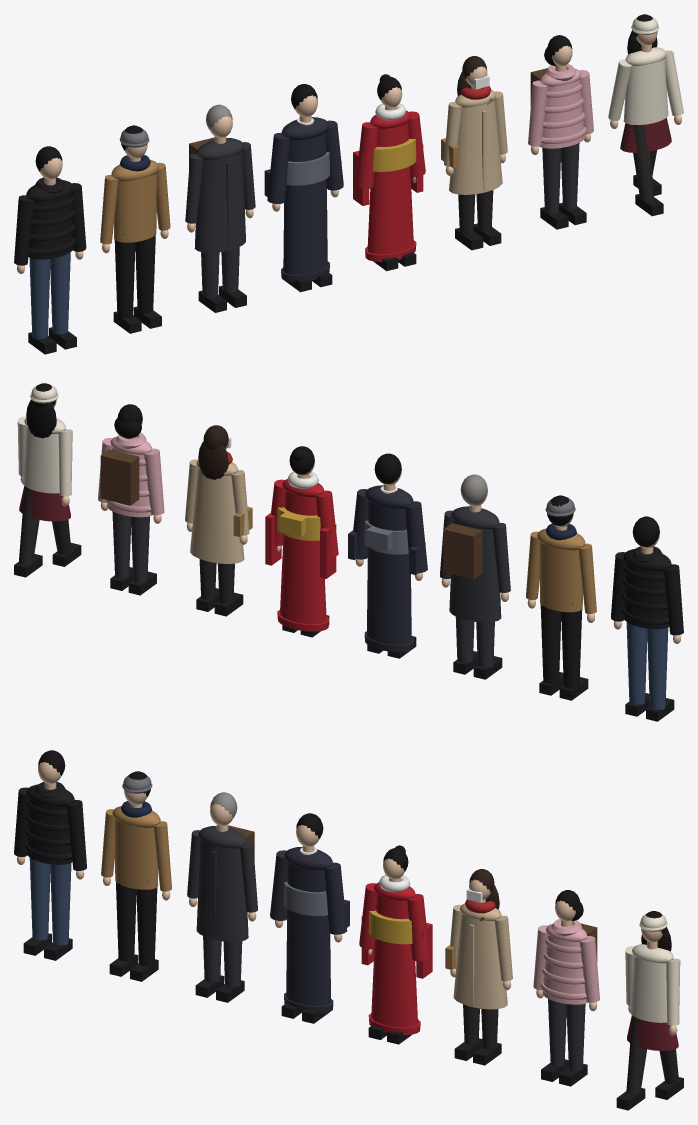
File: mannequins.glb
The picture shows the model from 3 angles, top to bottom: view 1: azimuth 30°, elevation 25°; view 2: azimuth 150°, elevation 25°; view 3: azimuth 330°, elevation 25°; orthographic projection.
Parts seen in each view (by area): view 1: M_kimono, M_longcoat_char, F_kimono_red, M_down_black, M_coat_camel, F_long_beige, F_down_pink, F_short_cream; view 2: M_kimono, M_longcoat_char, F_kimono_red, M_down_black, M_coat_camel, F_long_beige, F_down_pink, F_short_cream; view 3: M_kimono, M_longcoat_char, F_kimono_red, M_down_black, M_coat_camel, F_long_beige, F_down_pink, F_short_cream.
Part boxes in pixels (x1,y1,x2,y2): M_kimono: [264, 84, 343, 292]; M_longcoat_char: [185, 104, 255, 312]; F_kimono_red: [353, 74, 425, 271]; M_down_black: [14, 146, 86, 354]; M_coat_camel: [100, 125, 170, 333]; F_long_beige: [441, 56, 507, 250]; F_down_pink: [528, 35, 593, 229]; F_short_cream: [608, 14, 683, 216]; M_kimono: [348, 453, 427, 658]; M_longcoat_char: [440, 474, 510, 679]; F_kimono_red: [265, 446, 338, 637]; M_down_black: [611, 516, 683, 721]; M_coat_camel: [526, 495, 596, 700]; F_long_beige: [185, 425, 252, 616]; F_down_pink: [98, 404, 164, 595]; F_short_cream: [14, 383, 81, 577]; M_kimono: [270, 813, 349, 1023]; M_longcoat_char: [187, 792, 257, 1002]; F_kimono_red: [359, 845, 432, 1044]; M_down_black: [14, 750, 86, 960]; M_coat_camel: [101, 771, 171, 981]; F_long_beige: [445, 869, 512, 1065]; F_down_pink: [533, 890, 599, 1086]; F_short_cream: [616, 911, 683, 1110].
Size of the model in its own units: 6.22 by 1.75 by 0.611.
